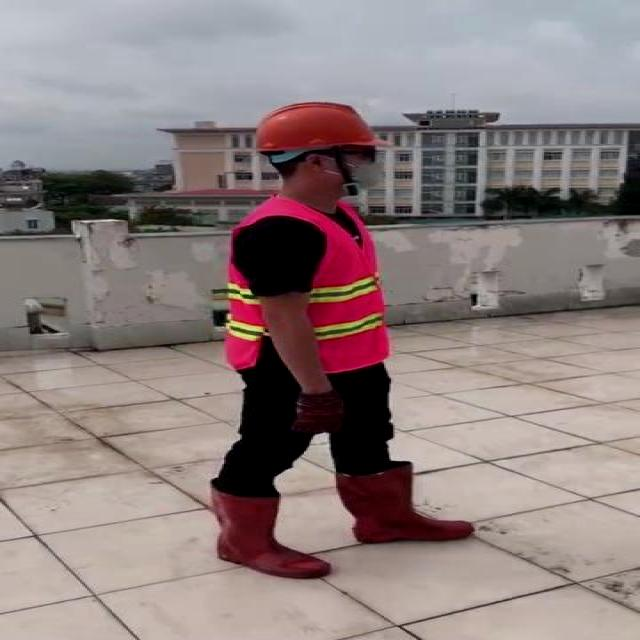boots: (210, 480, 330, 579), (334, 464, 471, 545)
face_mask: (326, 144, 388, 194)
hand_glove: (292, 393, 346, 436)
head_helmet: (252, 100, 392, 150)
person: (201, 98, 485, 582)
vest: (229, 200, 391, 371)
